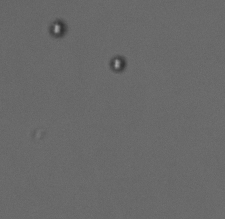Living Cell: (107, 54, 127, 71), (49, 19, 65, 37)
